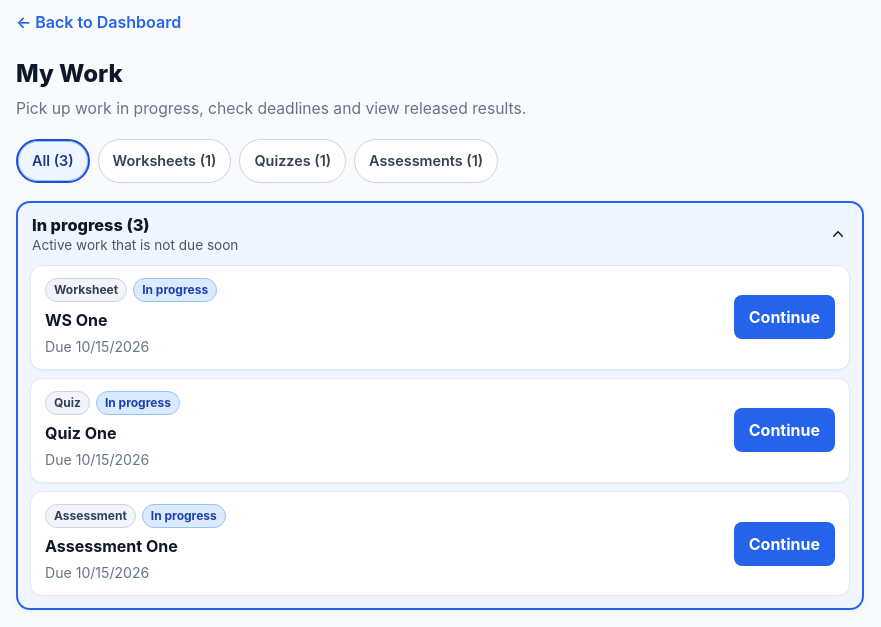
Test: type filter counts and accessible selected state
The width and height of the screenshot is (881, 627).
expect the button "All (3)" is shown: met, box x1=16 y1=139 x2=90 y2=183
expect the button "Worksheets (1)" is shown: met, box x1=98 y1=139 x2=231 y2=183
Click the button "Quizzes (1)". click: [293, 161]
box: x1=240 y1=139 x2=346 y2=183
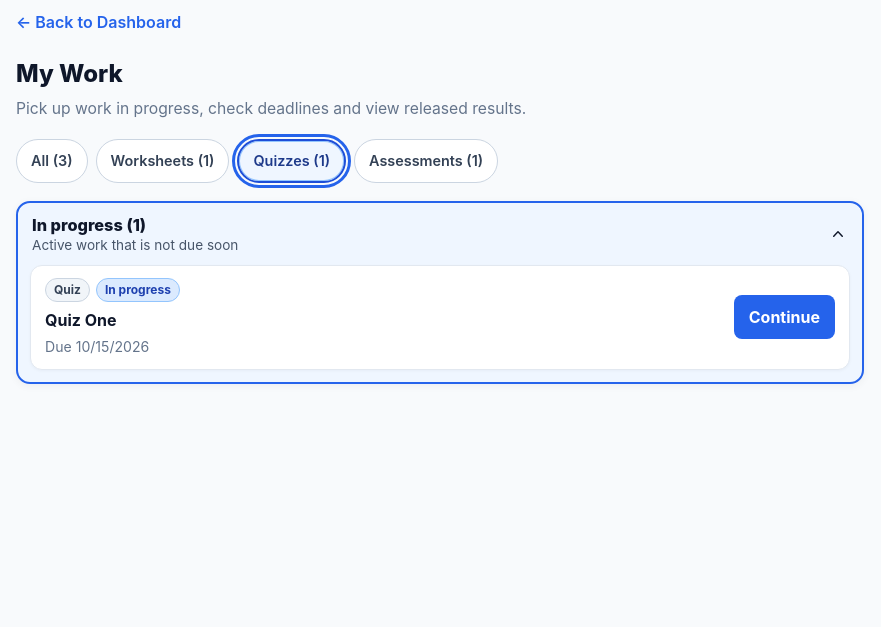
expect the heading "Quiz One" is shown: met, box x1=45 y1=310 x2=116 y2=330
expect the heading "WS One" is gone: met
